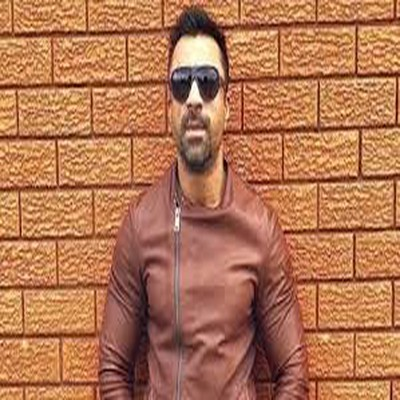eywear: (159, 62, 246, 120)
